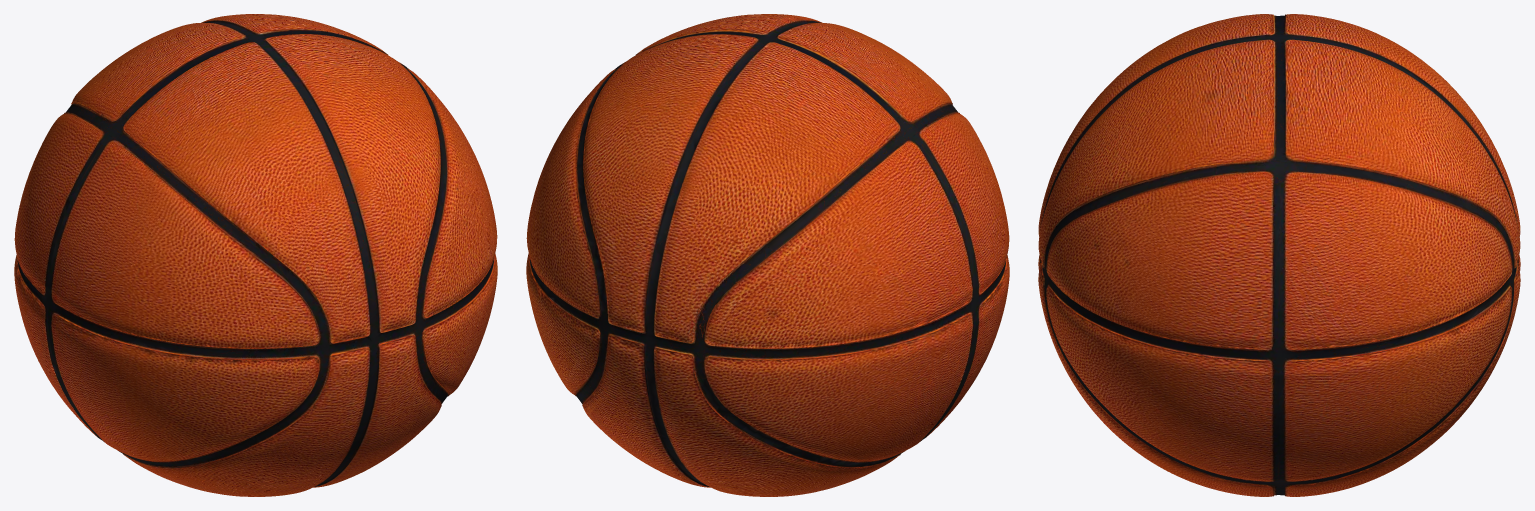
File: balon-san-juan.glb
3 views of the same model, side by side, from view 1: azimuth 30°, elevation 25°; view 2: azimuth 150°, elevation 25°; view 3: azimuth 270°, elevation 25° (orthographic).
Parts seen in each view (by area): view 1: node_0; view 2: node_0; view 3: node_0.
Part boxes in pixels (<box>): node_0: <box>14,14,497,496</box>; node_0: <box>526,14,1009,496</box>; node_0: <box>1038,14,1520,496</box>.
Size of the model in its own units: 1.19 by 1.19 by 1.19.
Materials: 1 (1 with a texture image).
